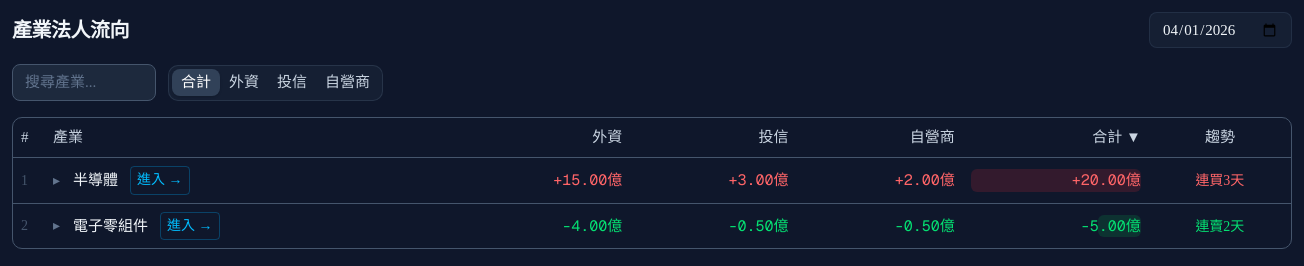
Test: IndustryDashboard › clears search and restores all rows when × is clicked
The width and height of the screenshot is (1304, 266).
Expected: the text "半導體" is shown, [73,169,118,192]
Type "半導體" into the field with placeholder "搜尋產業..." at x=84, y=83, box [12,64,156,101]
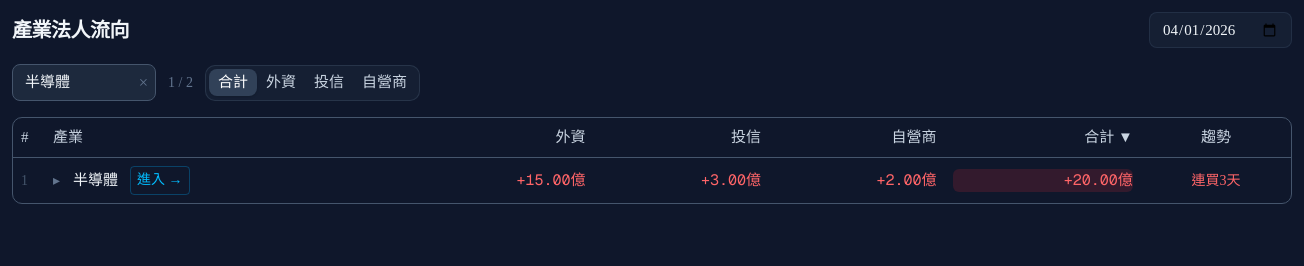
Expected: the text "電子零組件" is gone
Click the button named "清除搜尋" at x=143, y=83, box [139,74,148,91]
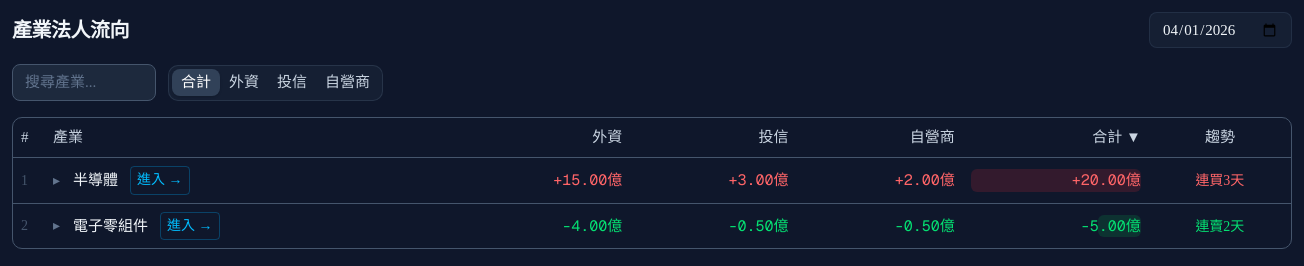
Expected: the text "電子零組件" is shown, [73,215,148,237]
